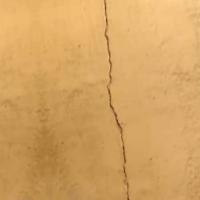crack: (83, 0, 143, 199)
